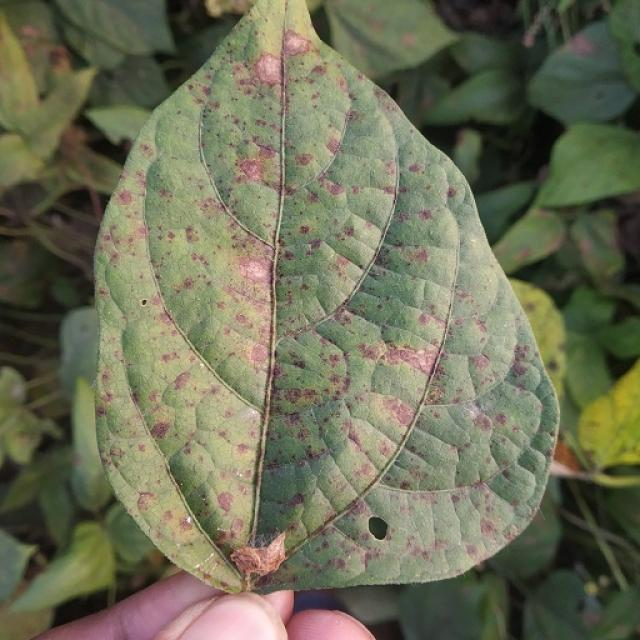Anthracnose: (163, 214, 257, 327), (247, 29, 321, 92), (252, 45, 292, 97), (384, 343, 441, 377), (236, 255, 271, 287), (231, 546, 263, 574), (254, 53, 282, 84), (283, 30, 310, 56), (45, 44, 71, 71), (237, 157, 265, 182), (389, 400, 415, 426), (234, 405, 261, 428), (569, 34, 595, 56), (581, 606, 602, 628), (172, 371, 193, 391), (136, 491, 157, 511), (150, 421, 171, 440), (216, 491, 234, 513), (250, 345, 269, 364), (20, 24, 41, 39), (183, 225, 199, 243), (294, 152, 313, 167), (116, 189, 133, 205), (480, 518, 495, 535), (402, 33, 417, 48), (414, 247, 429, 262), (139, 143, 154, 157), (466, 405, 480, 420), (181, 277, 195, 291), (235, 442, 250, 455), (594, 88, 609, 101), (418, 209, 432, 221), (407, 163, 422, 174), (446, 186, 458, 199), (180, 516, 193, 528), (334, 558, 346, 571), (547, 361, 559, 372), (299, 225, 310, 235), (137, 443, 147, 452), (429, 230, 437, 239), (140, 299, 148, 306)
Blackgram: (95, 0, 556, 590)
